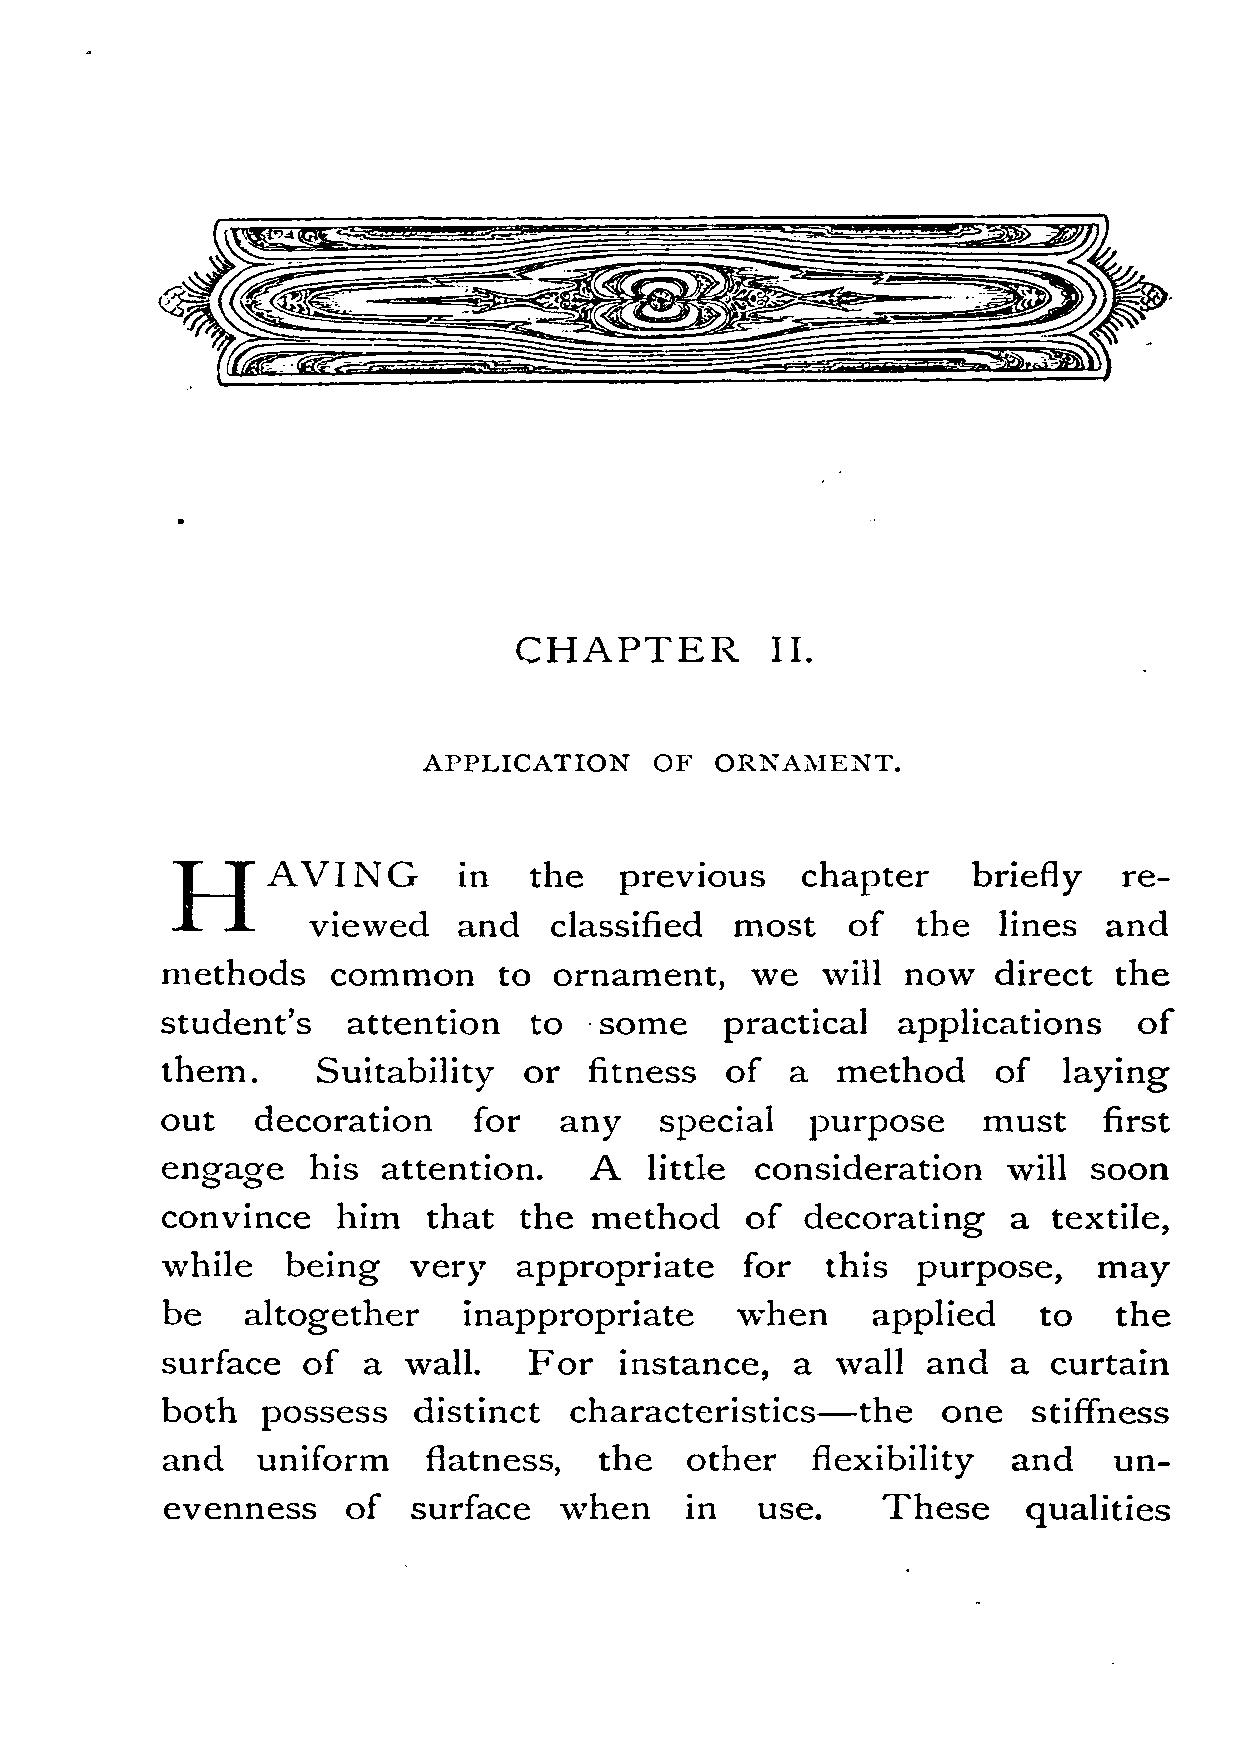chapter: (420, 633, 900, 774)
content: (156, 852, 1172, 1533)
